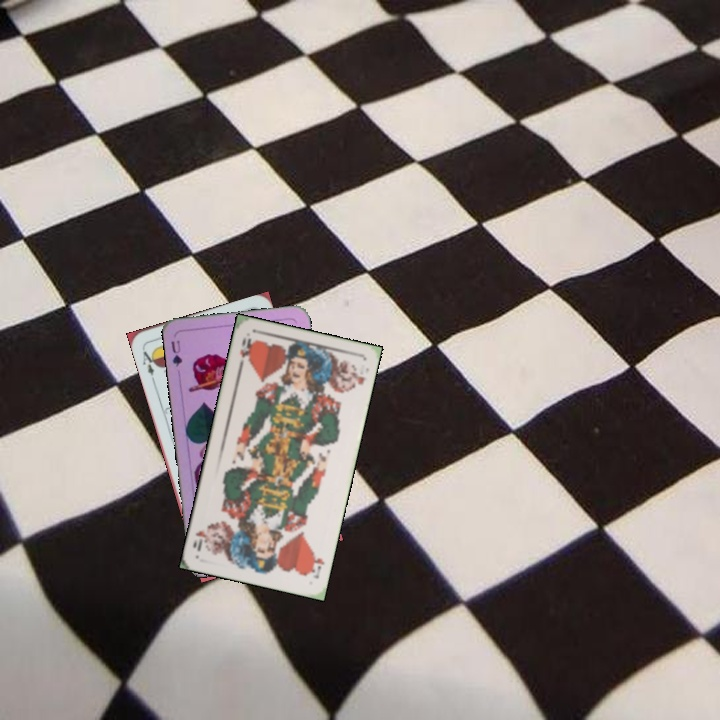EA: (138, 347, 160, 378)
GU: (167, 337, 185, 369)
HO: (234, 333, 254, 372), (305, 548, 327, 581)
